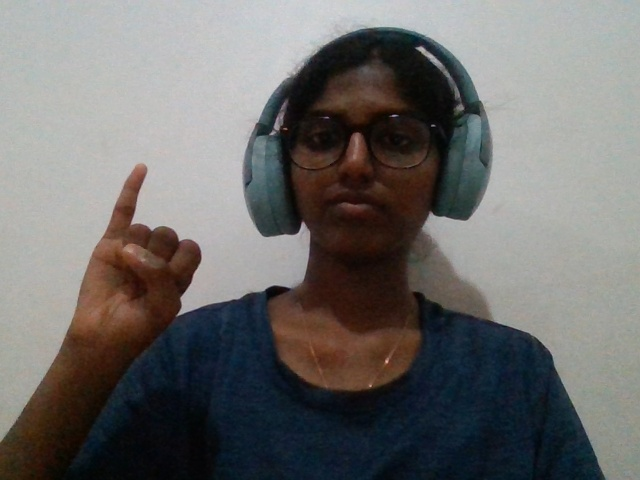I: (42, 156, 230, 406)
